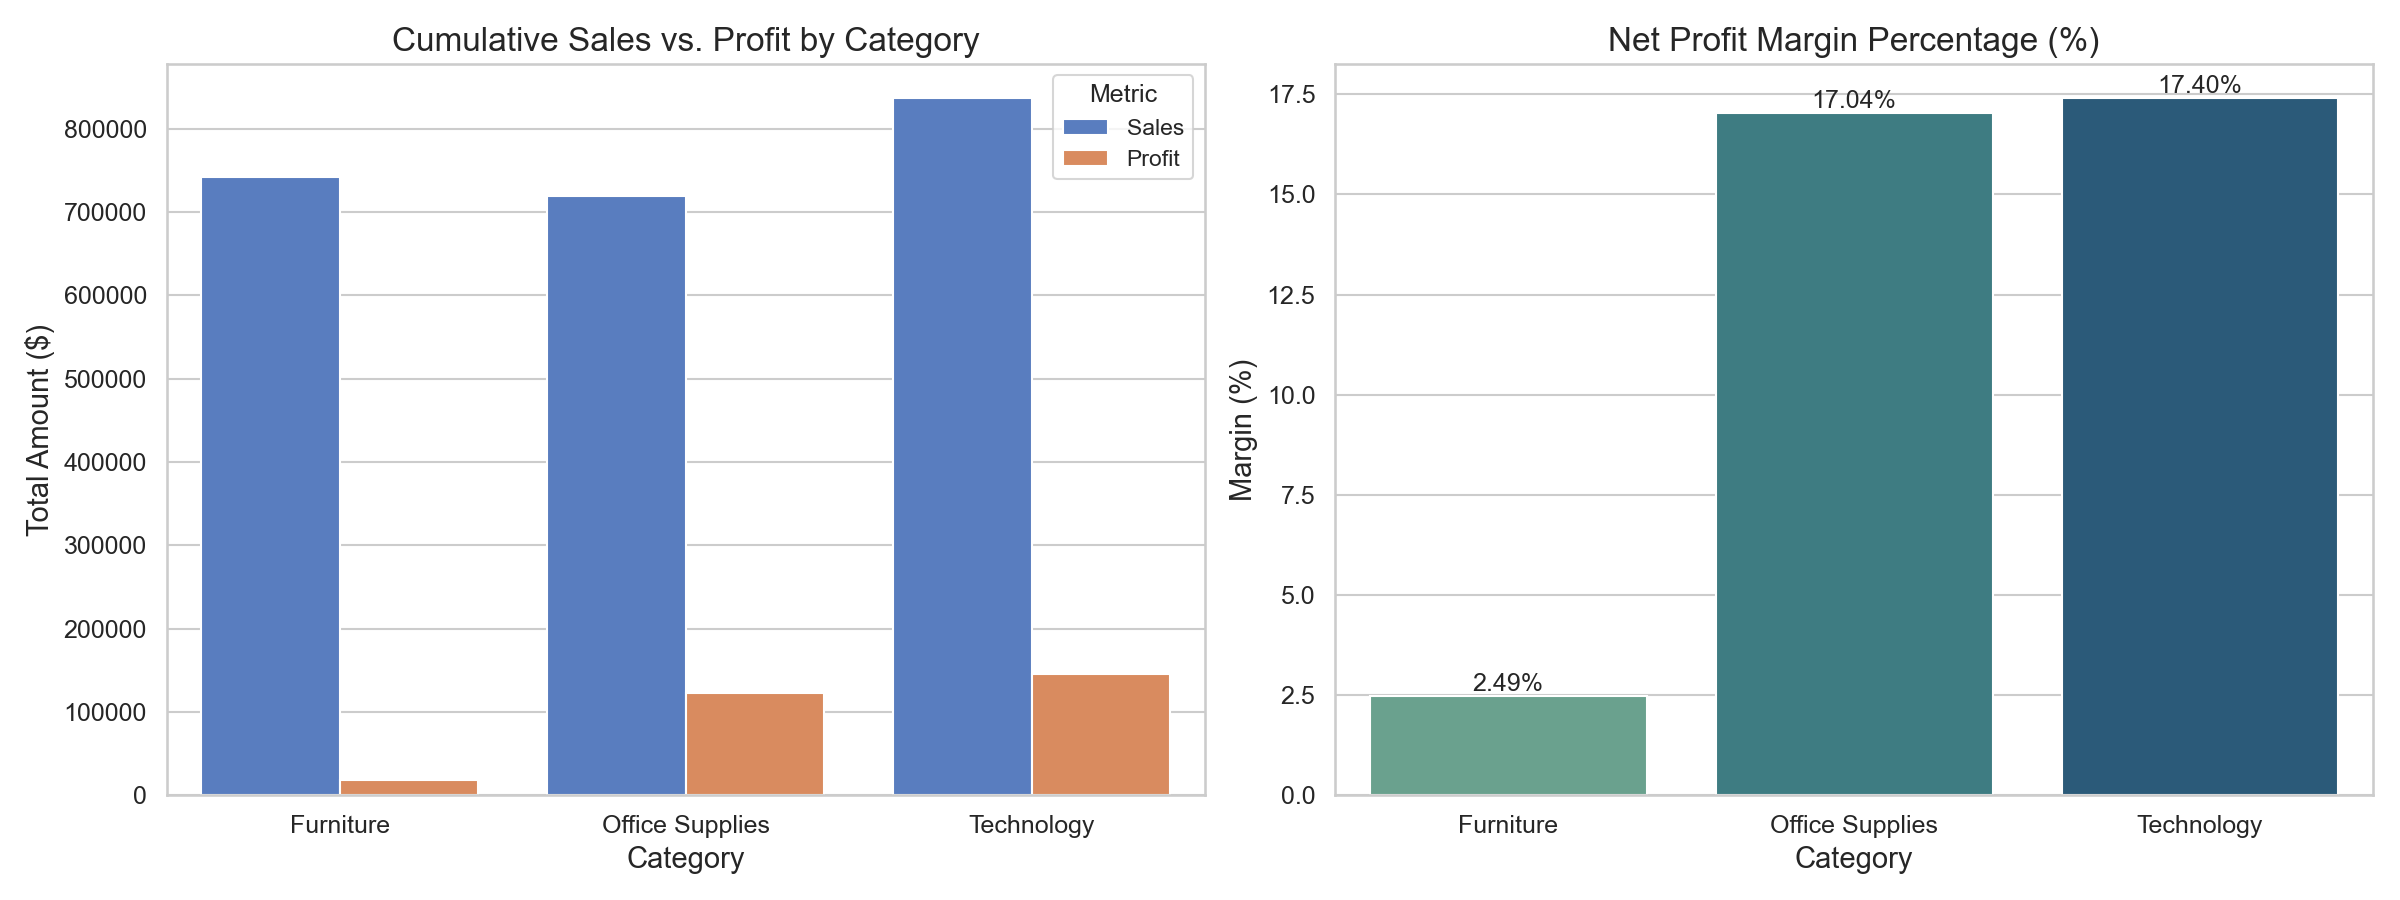

Layout of this report page (visuals, bound fields, positions):
{"tool":"powerbi","page":{"name":"Page 1","canvas":[1280,720],"ordinal":0},"visuals":[{"type":"lineClusteredColumnComboChart","fields":{"Y":["Sum(public fact_sales.sales)","Sum(public fact_sales.profit)"]},"box":[10,290,1202.2,377.8],"z":1},{"type":"barChart","fields":{"Y":["Sum(public fact_sales.sales)"]},"box":[10,0,1270,290],"z":2}]}

Visuals, with their boxes on the page's 1280x720 design canvas (x1, y1, x2, y2). These are canvas units, not pixel positions in the 2400x900 screenshot, which may show the page scaled, cropped or inside an application window:
lineClusteredColumnComboChart - Sum(public fact_sales.sales) x Sum(public fact_sales.profit): detection(10, 290, 1212, 668)
barChart - Sum(public fact_sales.sales): detection(10, 0, 1280, 290)
